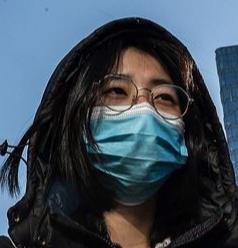OK: (81, 65, 187, 201)
